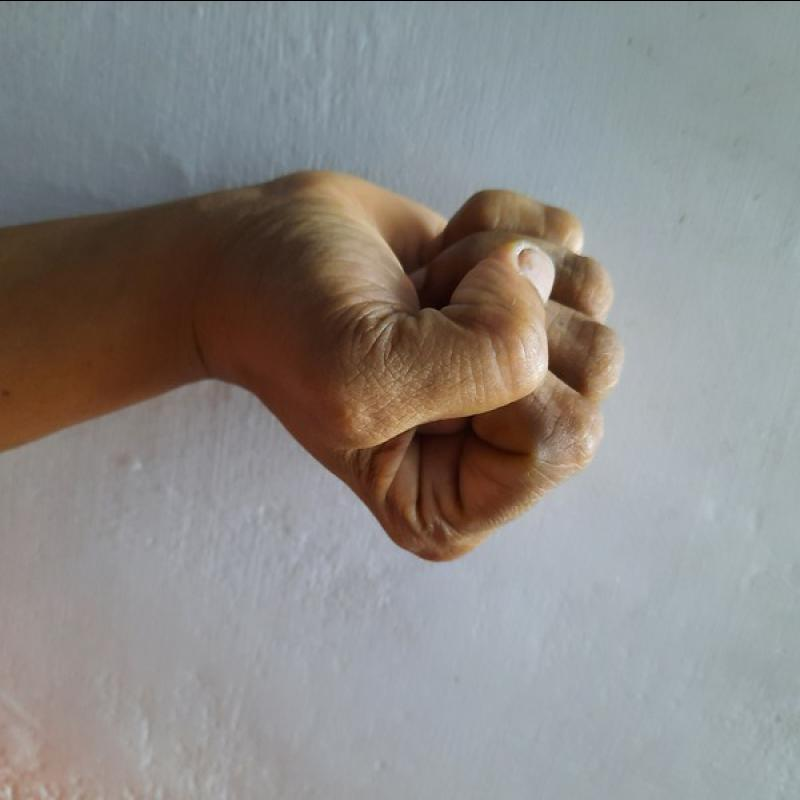Mushti: (196, 155, 625, 574)
